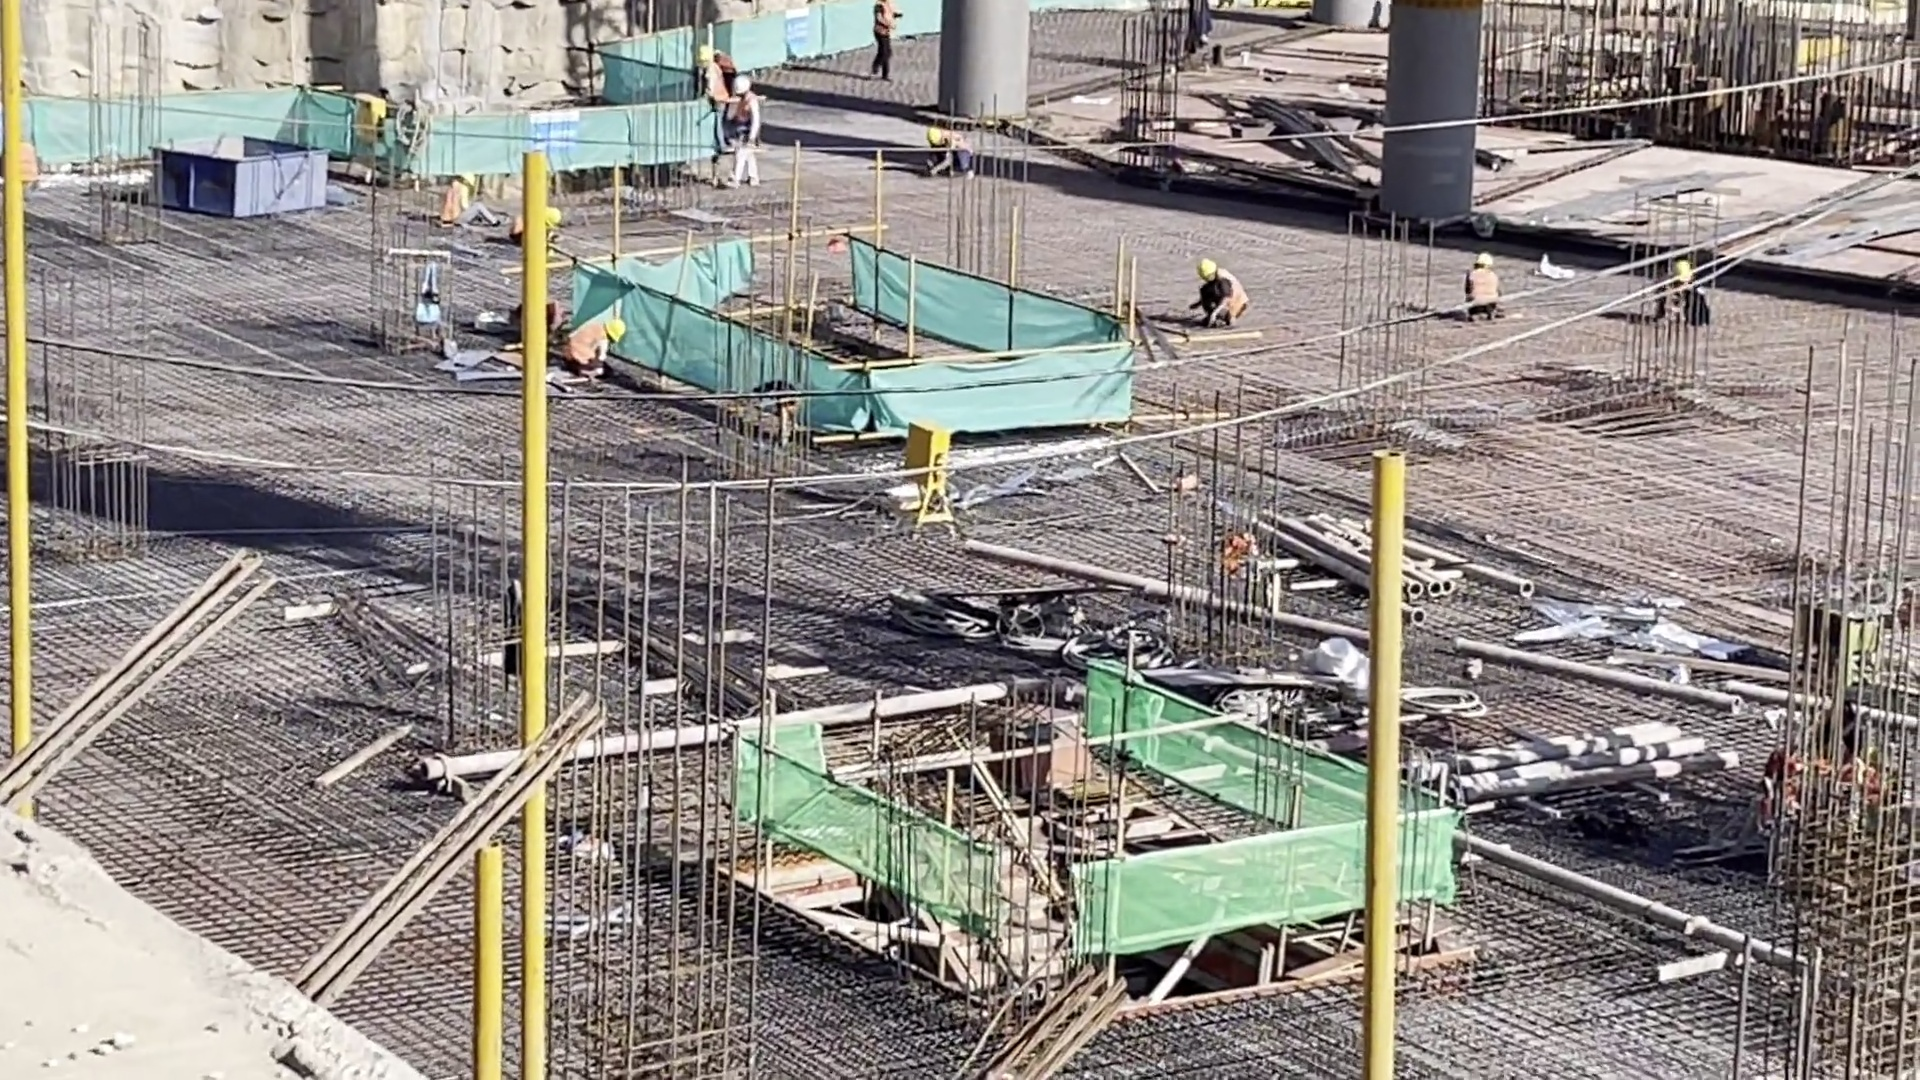helmet: (1195, 255, 1217, 276), (609, 315, 623, 341), (931, 125, 945, 149), (1677, 261, 1691, 284), (694, 44, 711, 61), (460, 168, 475, 187), (550, 209, 564, 225), (1477, 249, 1491, 267), (747, 83, 759, 97)
person: (702, 38, 736, 158), (904, 133, 971, 195), (442, 164, 501, 231), (850, 1, 898, 80), (573, 311, 628, 378), (503, 195, 558, 258), (1459, 235, 1499, 318), (1188, 258, 1238, 320), (726, 76, 758, 170), (1659, 256, 1701, 311)
vest: (1208, 270, 1246, 322), (1467, 268, 1497, 309), (571, 327, 607, 357), (710, 51, 729, 98), (442, 186, 466, 224), (940, 132, 975, 158), (876, 1, 893, 36), (739, 101, 754, 134), (1669, 273, 1690, 296)
